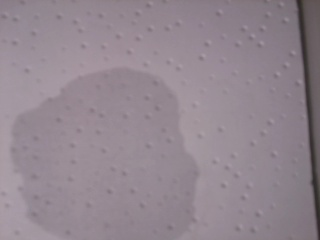Water_detected: (35, 87, 174, 225)
